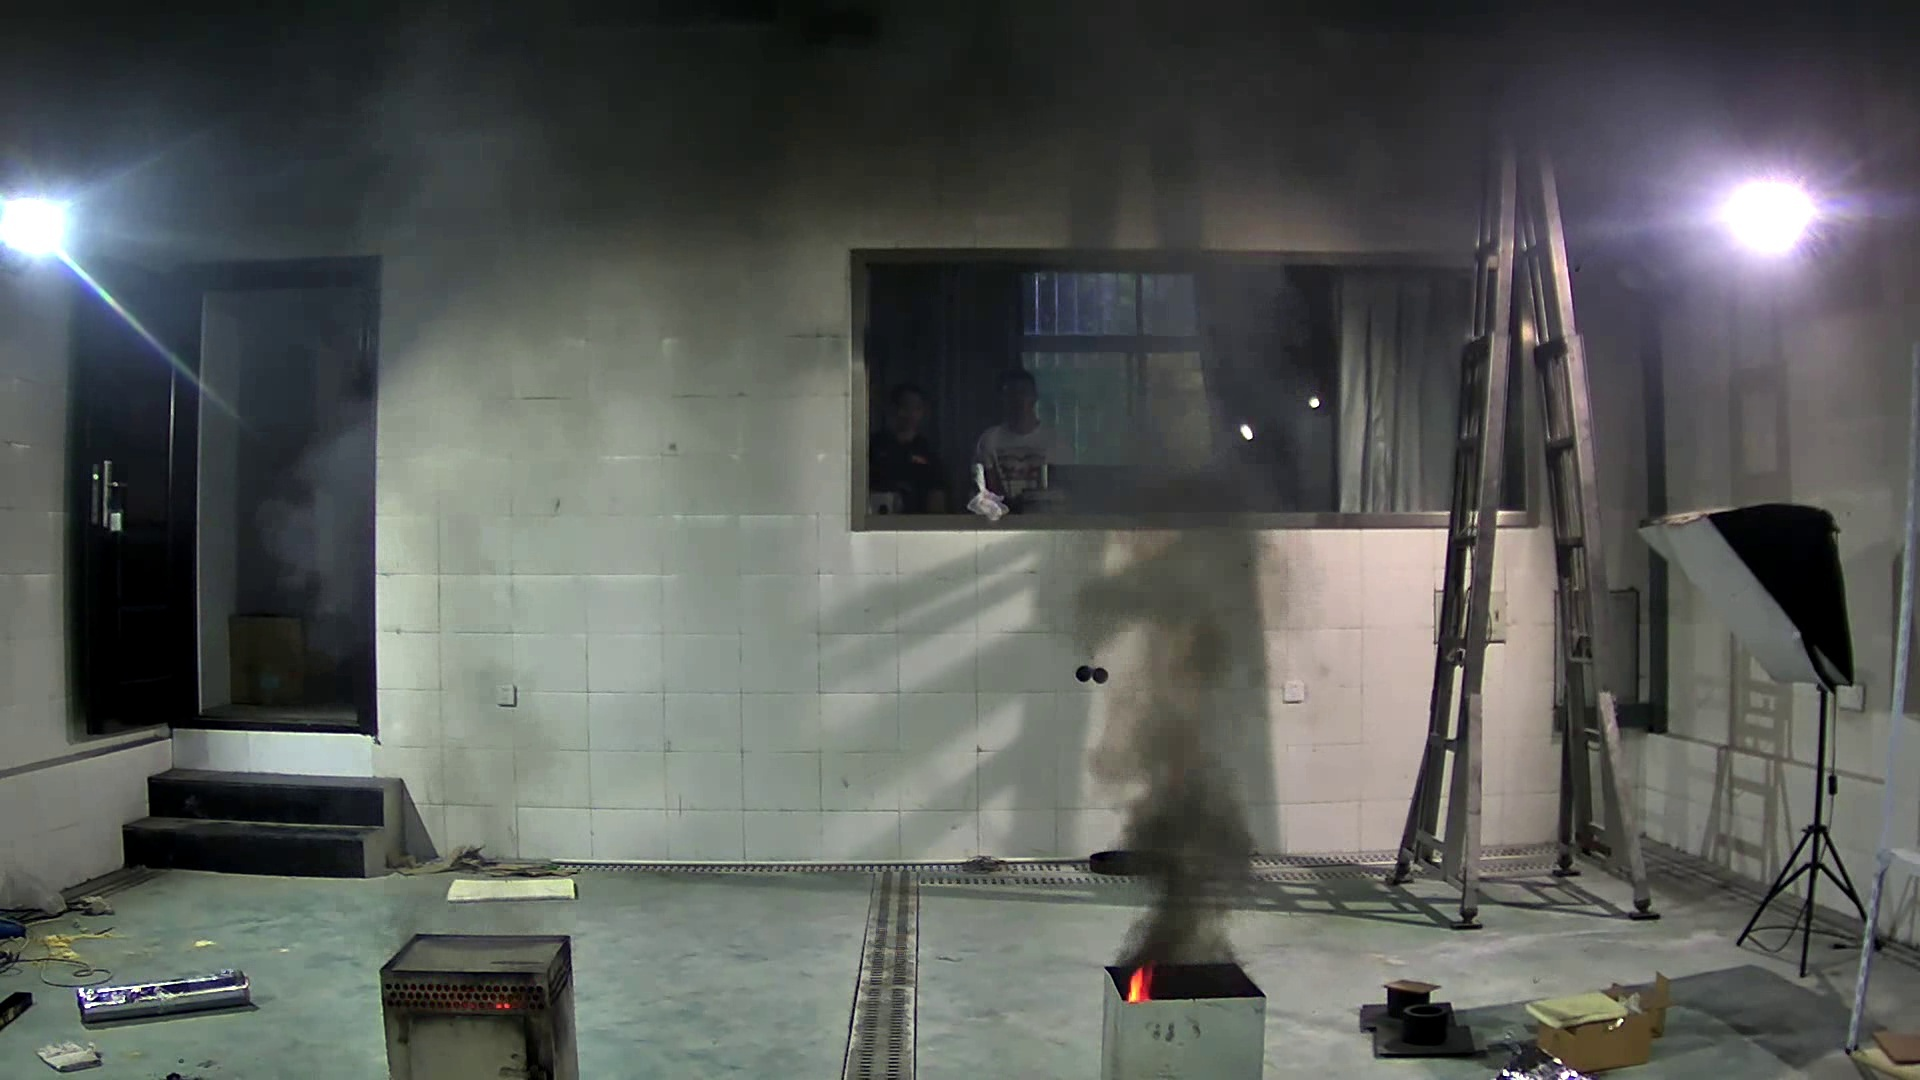smoke: (1013, 73, 1286, 947)
